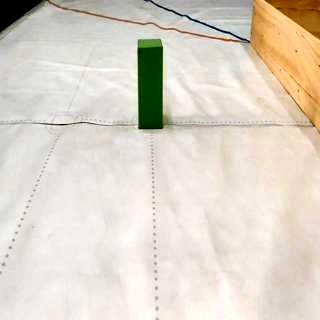greenbox: (136, 36, 164, 130)
